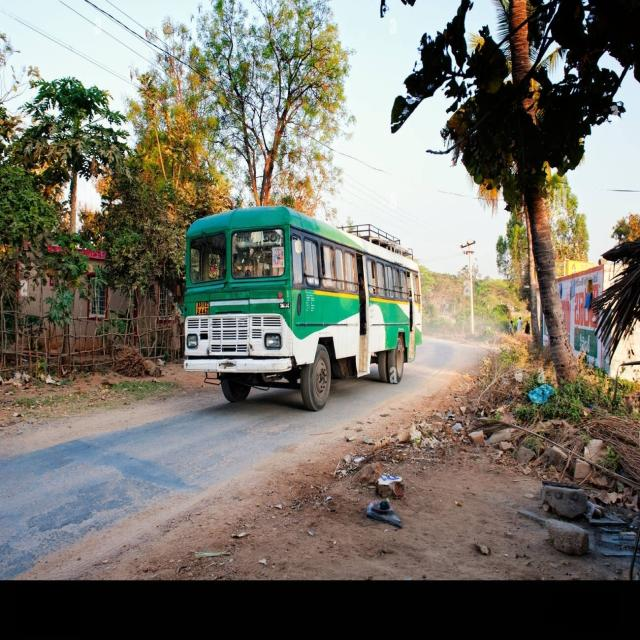bus: (184, 206, 422, 410)
